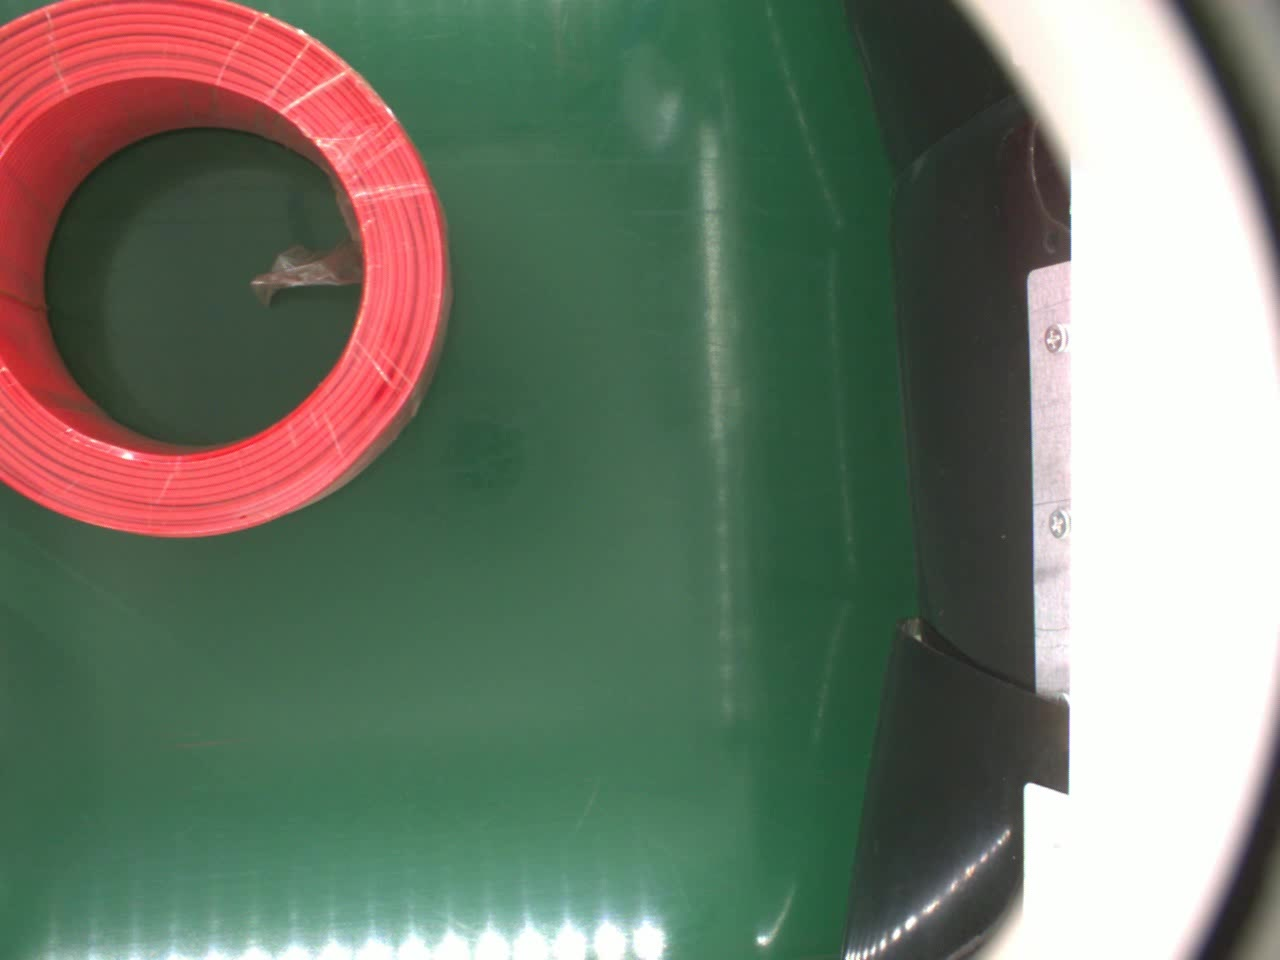red: (0, 0, 453, 544)
